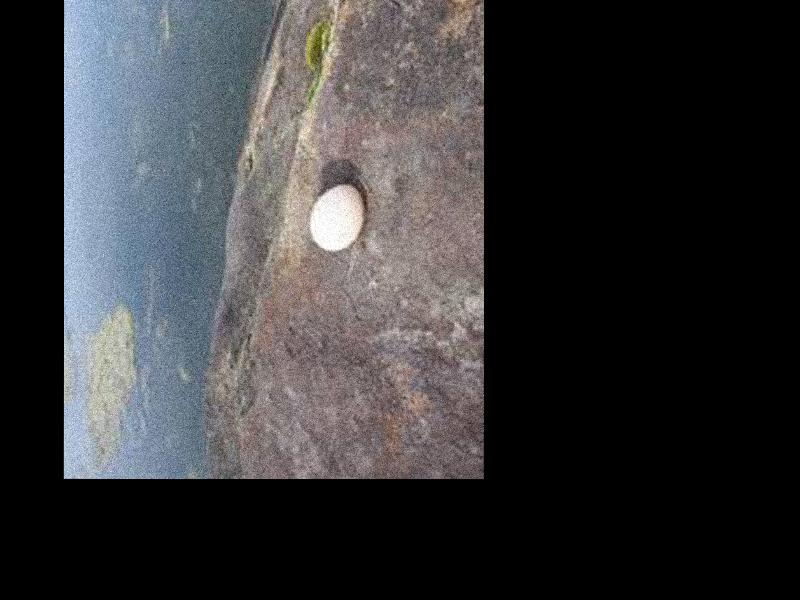Eggs: (308, 185, 363, 254)
